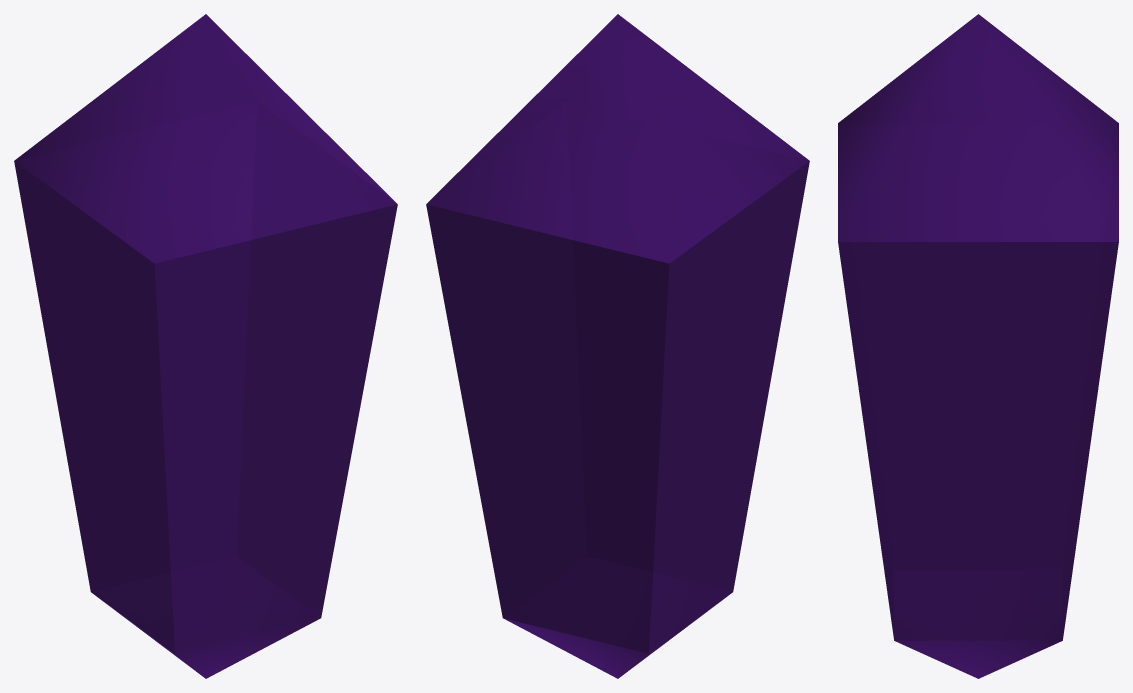
Rendered from Floating_jewel.FBX.
3 renders of one model, left to right at view 1: azimuth 30°, elevation 25°; view 2: azimuth 150°, elevation 25°; view 3: azimuth 270°, elevation 25°, orthographic.
Visible parts, largest first — view 1: Box001; view 2: Box001; view 3: Box001.
Part boxes in pixels (x1=…): Box001: x1=14, y1=14, x2=397, y2=678; Box001: x1=426, y1=14, x2=809, y2=678; Box001: x1=838, y1=14, x2=1118, y2=678.
Size of the model in its own units: 0.2352 by 0.6142 by 0.2352.
